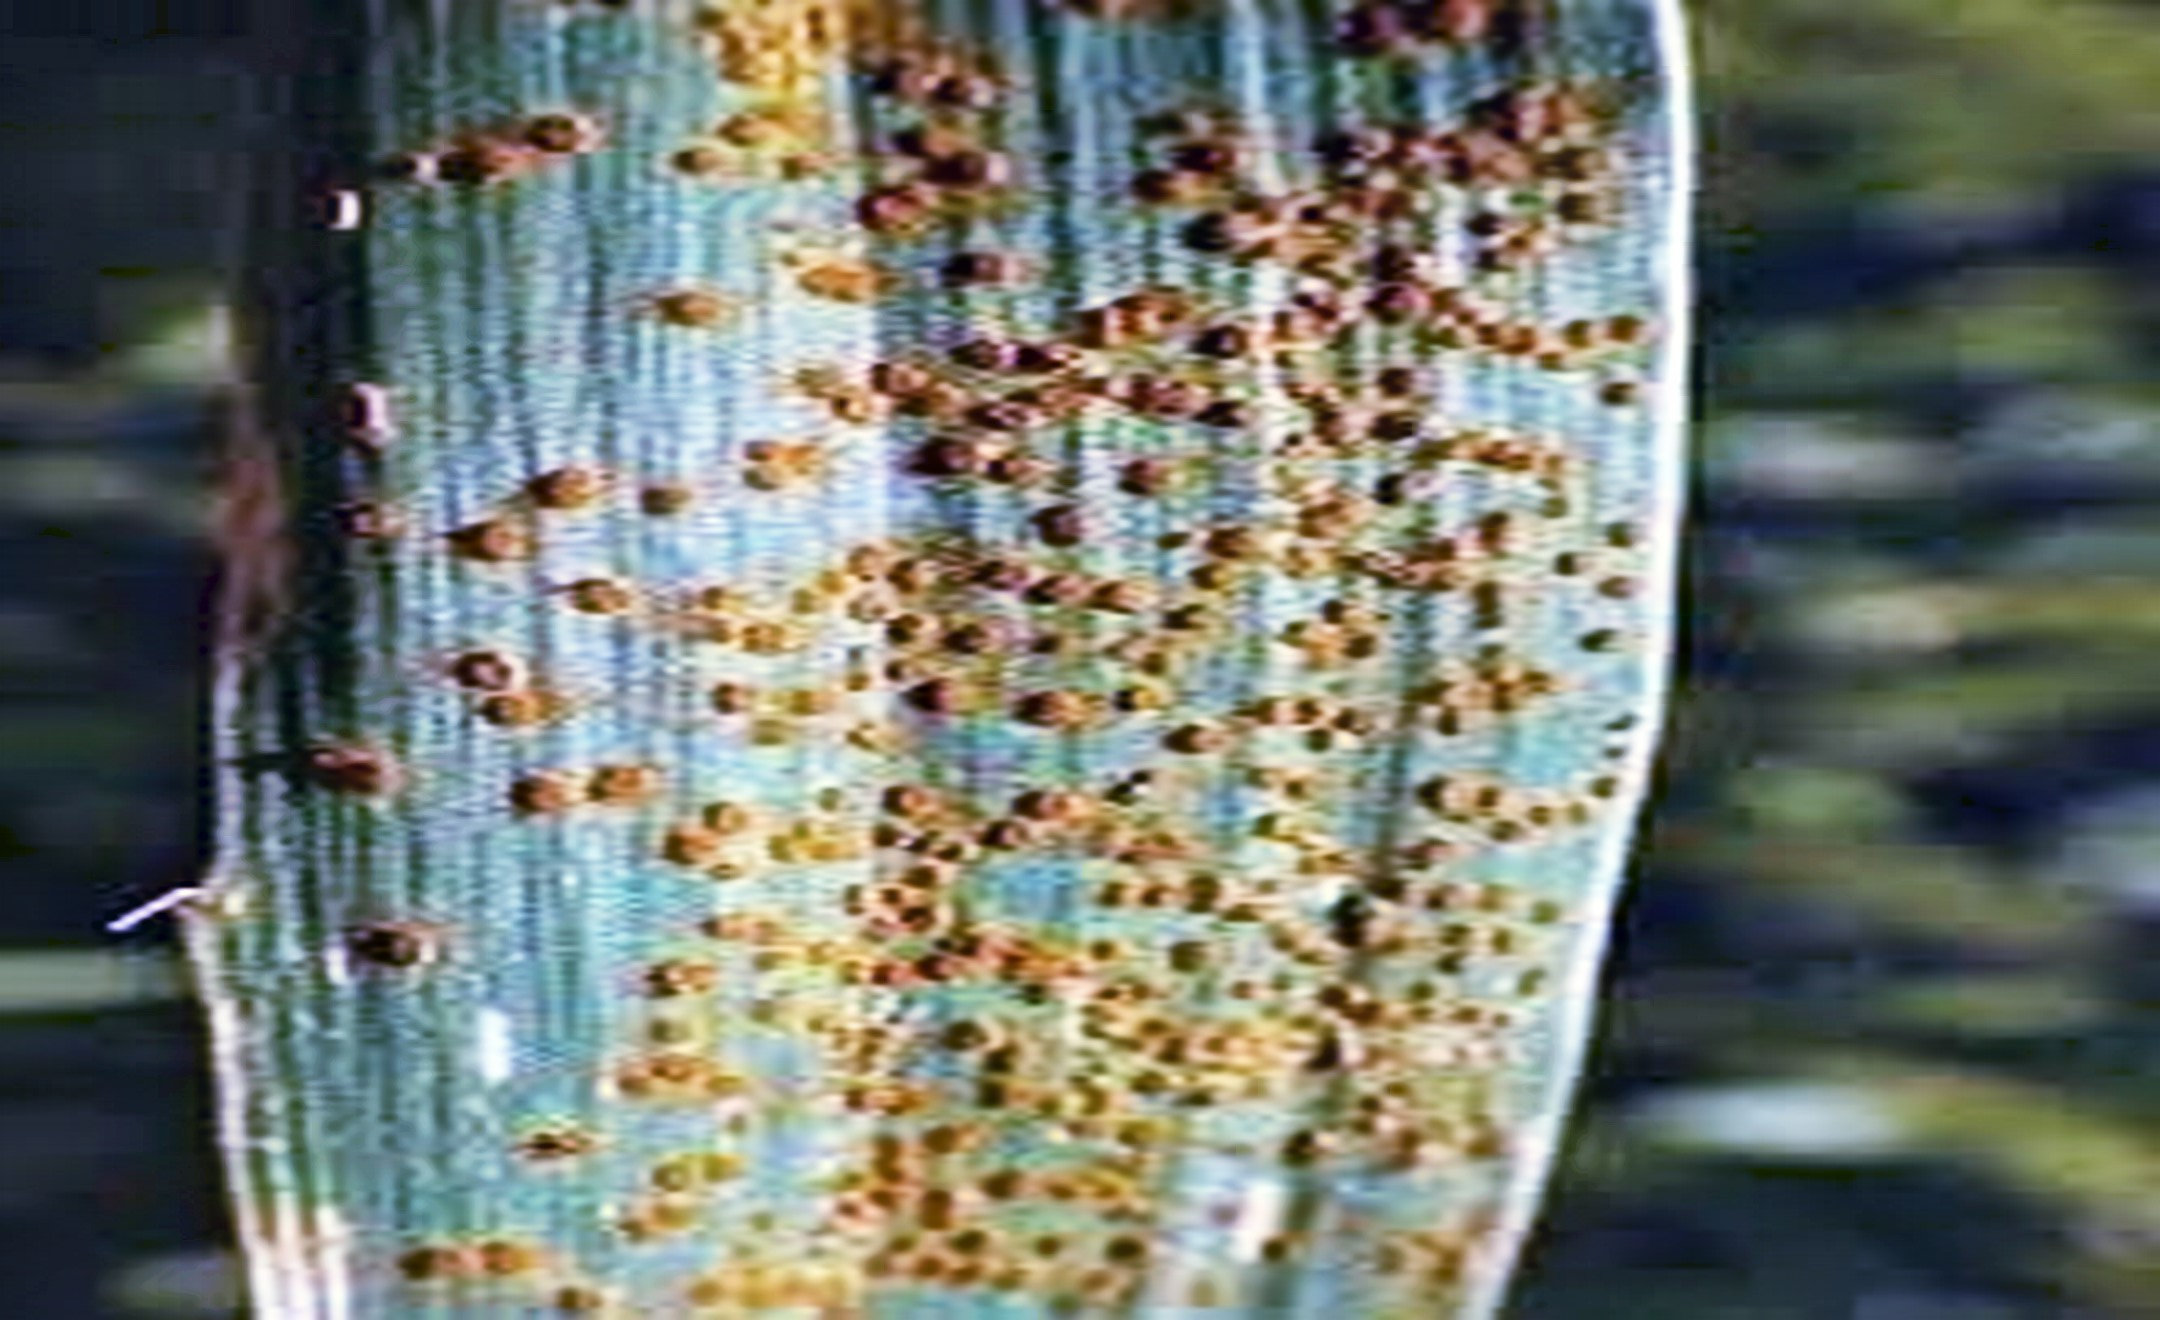Leaf Rust: (380, 157, 1679, 1238)
